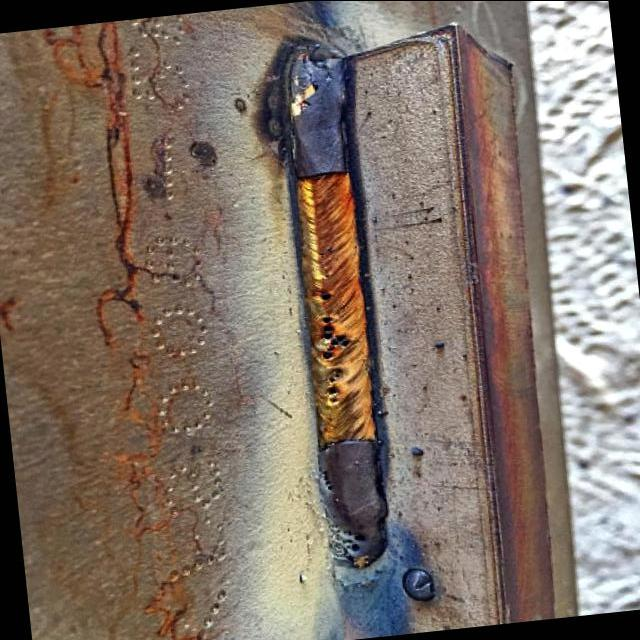defect: (318, 307, 359, 361), (331, 525, 368, 552), (322, 364, 344, 404), (316, 467, 337, 498), (316, 287, 334, 305)
